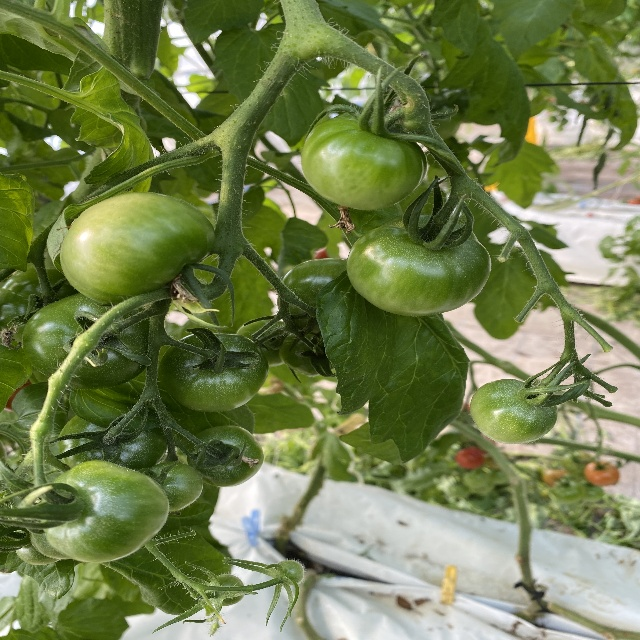l_green: (61, 193, 217, 306), (347, 215, 491, 317), (38, 459, 170, 563), (302, 113, 428, 212), (21, 294, 150, 390), (159, 331, 270, 412), (59, 416, 168, 472), (469, 378, 558, 444), (1, 268, 82, 334), (279, 258, 348, 335), (186, 425, 265, 487), (143, 461, 203, 512), (236, 316, 292, 367), (280, 329, 334, 376), (31, 515, 76, 560), (14, 528, 59, 565), (208, 575, 246, 607), (275, 559, 305, 586)
